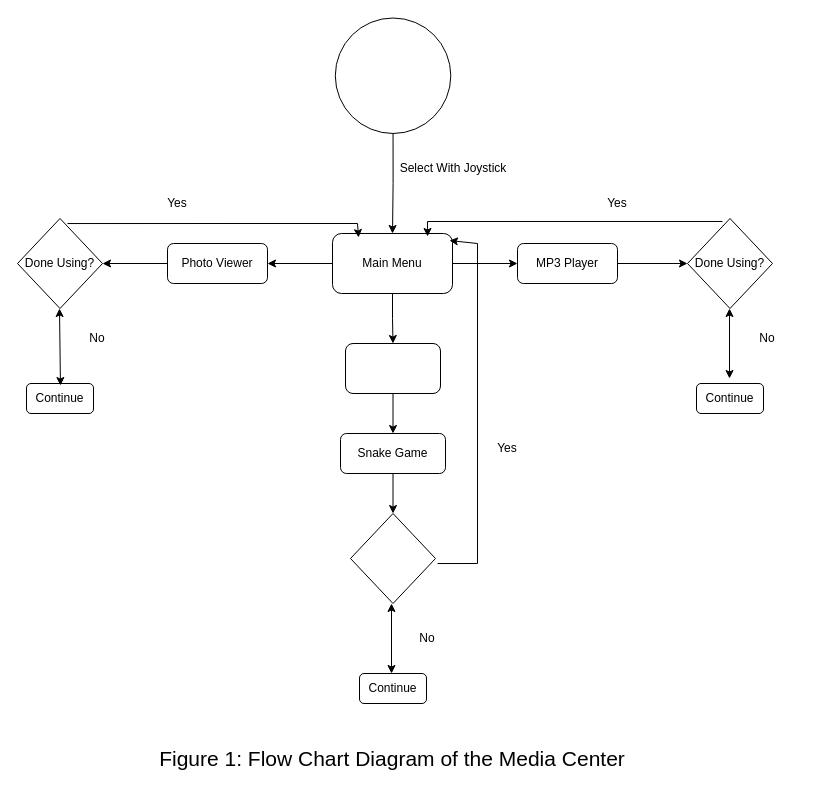
This 815x790 diagram has some shape labels left out. The shapes that lost their labels are listed below. From the top down, each one's centre as x and y in pixels, then its label:
the point at 392,75: Start Program
the point at 392,368: Game Centre
the point at 393,558: Done Playing?
